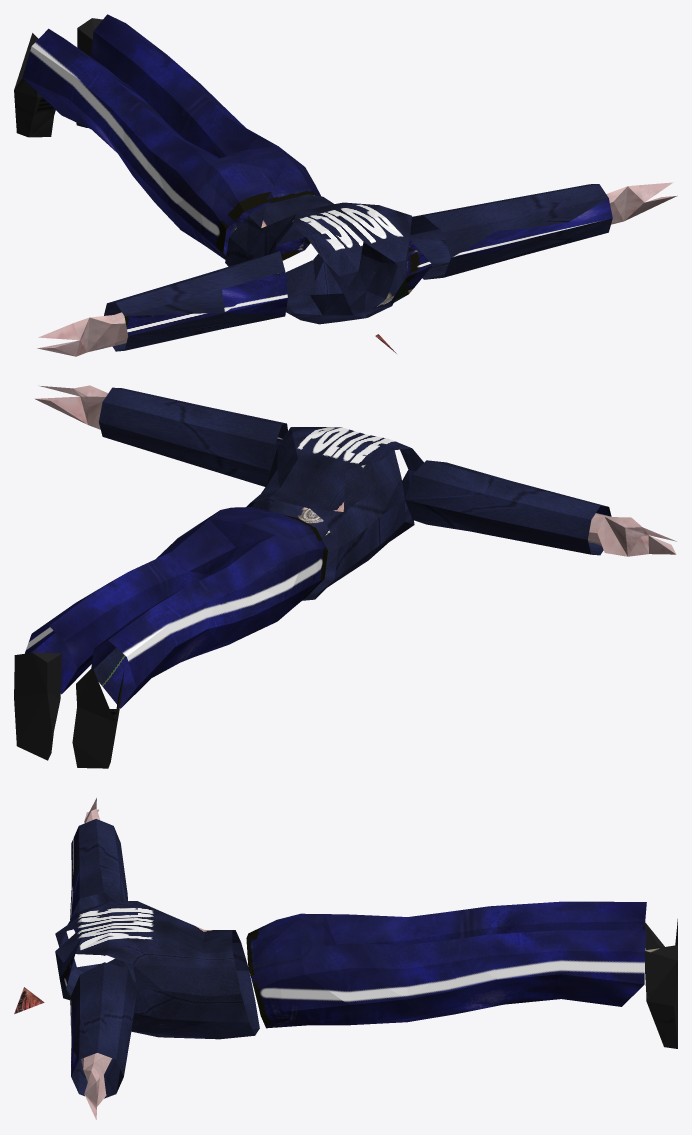
File: tomdrinman1policelow_wtf.obj
3 views of the same model, one above another, from view 1: azimuth 30°, elevation 25°; view 2: azimuth 150°, elevation 25°; view 3: azimuth 270°, elevation 25° (orthographic).
Visible parts, largest first — view 1: group1, group4, group6, group5, group7, group2, group3; view 2: group1, group4, group5, group6, group7, group2, group3; view 3: group1, group4, group6, group5, group7, group3.
Boxes of the visible parts, <box> form: group1: <box>22,14,320,260</box>; group4: <box>225,194,432,324</box>; group6: <box>409,184,612,279</box>; group5: <box>104,251,287,351</box>; group7: <box>14,18,102,137</box>; group2: <box>37,312,128,356</box>; group3: <box>606,182,677,224</box>; group1: <box>25,507,327,708</box>; group4: <box>246,427,423,600</box>; group5: <box>405,460,611,555</box>; group6: <box>99,387,287,486</box>; group7: <box>14,652,124,768</box>; group2: <box>588,513,676,556</box>; group3: <box>34,385,107,429</box>; group1: <box>246,901,646,1028</box>; group4: <box>55,901,259,1039</box>; group6: <box>70,962,137,1098</box>; group5: <box>70,819,127,955</box>; group7: <box>644,919,677,1048</box>; group3: <box>81,1053,112,1119</box>.
Size of the model in its own units: 660 by 117 by 599.
